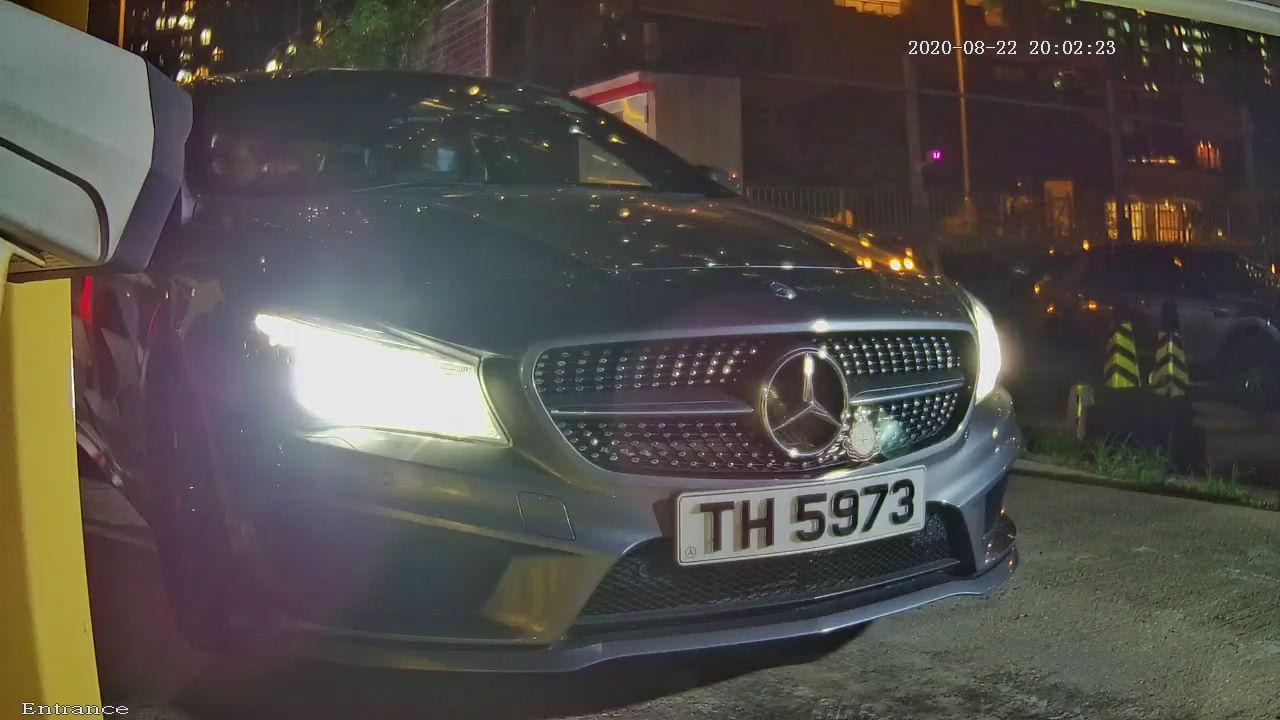Car: (18, 20, 1143, 692)
License Plate: (663, 460, 943, 576)
